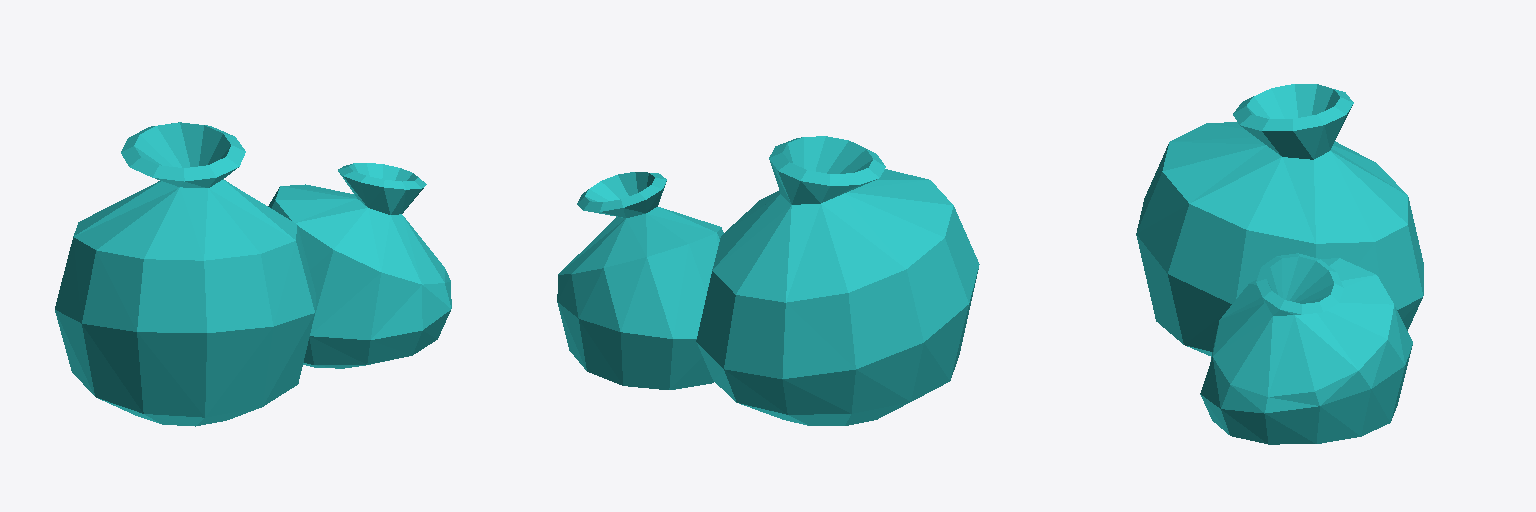
File: jug_002.obj
3 views of the same model, side by side, from view 1: azimuth 30°, elevation 25°; view 2: azimuth 150°, elevation 25°; view 3: azimuth 270°, elevation 25° (orthographic).
Visible parts, largest first — view 1: jug_002; view 2: jug_002; view 3: jug_002.
Boxes of the visible parts, <box> form: jug_002: <box>55,122,451,426</box>; jug_002: <box>557,136,979,425</box>; jug_002: <box>1136,84,1423,444</box>.
Bounding box in the file's own units: 0.8036 × 0.5142 × 0.5334.